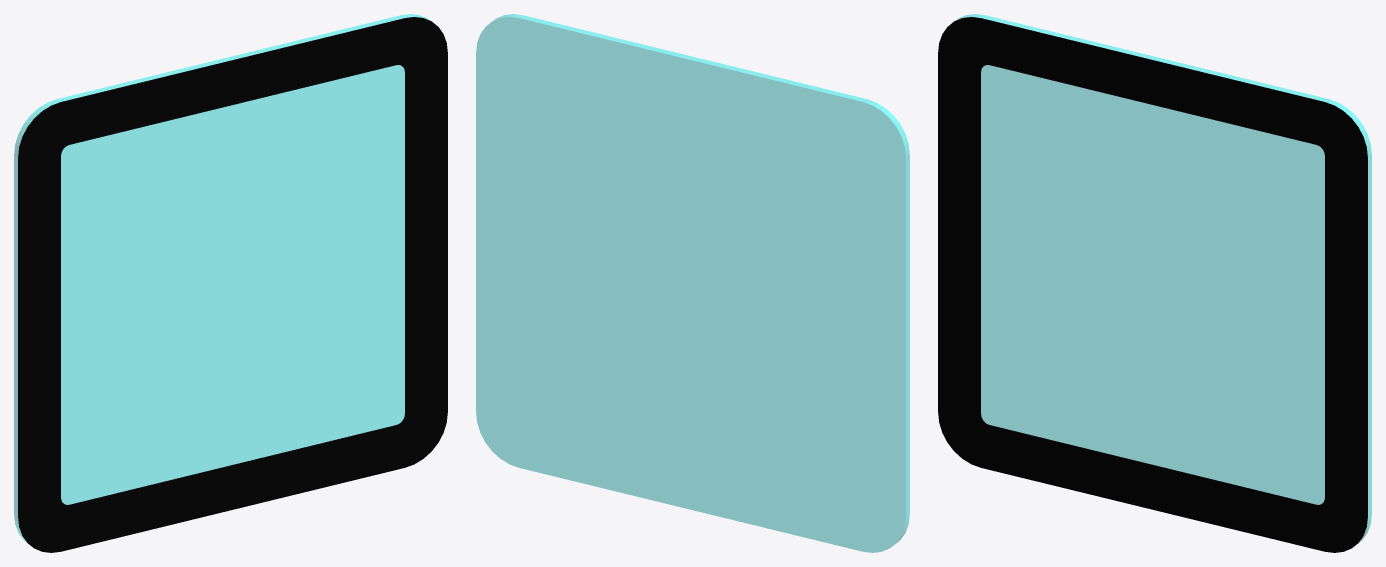
Rendered from clear-tempered-marine-glass.glb.
3 renders of one model, left to right at view 1: azimuth 30°, elevation 25°; view 2: azimuth 150°, elevation 25°; view 3: azimuth 330°, elevation 25°, orthographic.
Parts seen in each view (by area): view 1: P016268_00642a, P016268_f3ac6d; view 2: P016268_00642a; view 3: P016268_00642a, P016268_f3ac6d.
Boxes of the visible parts, x1=… form: P016268_00642a: x1=14, y1=14, x2=430, y2=545; P016268_f3ac6d: x1=18, y1=17, x2=447, y2=552; P016268_00642a: x1=476, y1=14, x2=909, y2=552; P016268_00642a: x1=955, y1=14, x2=1371, y2=545; P016268_f3ac6d: x1=938, y1=17, x2=1367, y2=552.
Size of the model in its own units: 0.5 by 0.5 by 0.008.
